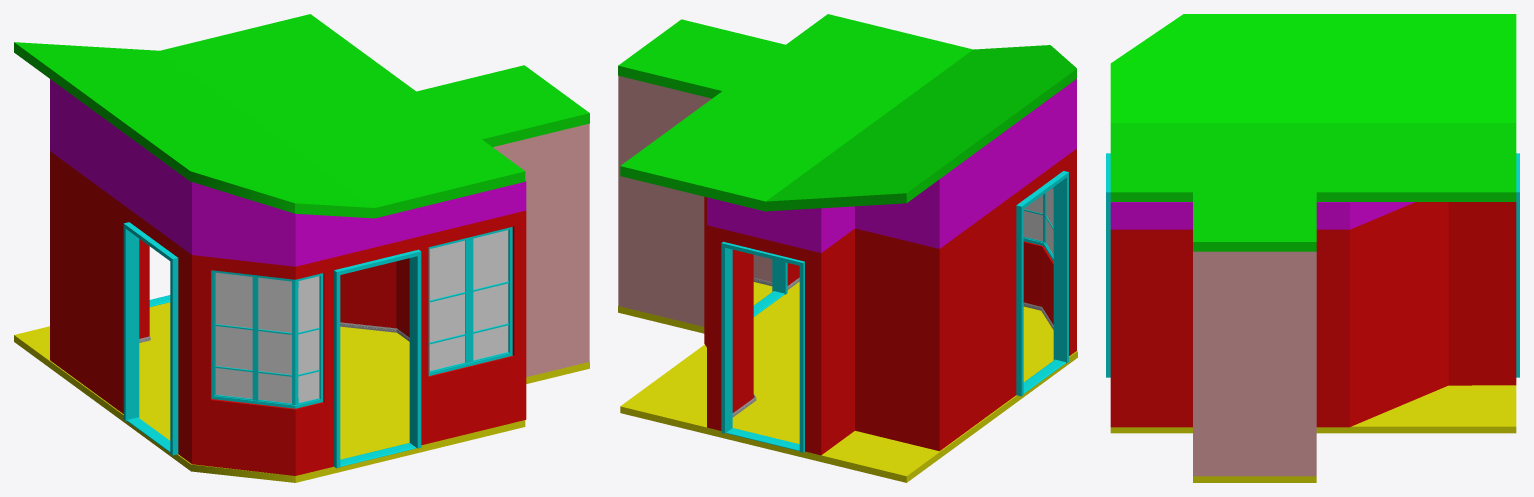
Rendered from FloorPlan527_physics.fbx.
3 renders of one model, left to right at view 1: azimuth 30°, elevation 25°; view 2: azimuth 150°, elevation 25°; view 3: azimuth 270°, elevation 25°, orthographic. The views are drawn at different scales.
Visible parts, largest first — view 1: FP527:Walls_1, FP527:Ceiling_1, FP527:Floor_1, FP527:Walls_2, FP527:WindowPane_2, FP527:WindowPane_1, FP527:Ceiling_2, FP527:DoorFrame_2, FP527:DoorFrame_1, FP527:WindowFrame_2, FP527:WindowFrame_1; view 2: FP527:Walls_1, FP527:Ceiling_1, FP527:Floor_1, FP527:Walls_2, FP527:Ceiling_2, FP527:DoorFrame_2, FP527:DoorFrame_3, FP527:WindowPane_2, FP527:Floor_2, FP527:Floorboard_3, FP527:DoorFrame_4; view 3: FP527:Ceiling_1, FP527:Walls_1, FP527:Walls_2, FP527:Ceiling_2, FP527:Floor_1, FP527:DoorFrame_1, FP527:DoorFrame_3, FP527:Floor_2.
Boxes of the visible parts, x1,y1,x2,y2 form: FP527:Walls_1: (50, 79, 526, 475); FP527:Ceiling_1: (14, 14, 525, 218); FP527:Floor_1: (14, 302, 525, 482); FP527:Walls_2: (493, 123, 589, 376); FP527:WindowPane_2: (215, 272, 319, 403); FP527:WindowPane_1: (430, 230, 508, 370); FP527:Ceiling_2: (416, 65, 589, 147); FP527:DoorFrame_2: (123, 222, 178, 455); FP527:DoorFrame_1: (334, 249, 421, 468); FP527:WindowFrame_2: (211, 270, 323, 408); FP527:WindowFrame_1: (428, 227, 512, 375); FP527:Walls_1: (704, 79, 1076, 455); FP527:Ceiling_1: (620, 14, 1076, 211); FP527:Floor_1: (620, 282, 1077, 482); FP527:Walls_2: (618, 76, 772, 326); FP527:Ceiling_2: (618, 19, 785, 98); FP527:DoorFrame_2: (1016, 171, 1068, 396); FP527:DoorFrame_3: (721, 241, 804, 452); FP527:WindowPane_2: (1023, 188, 1053, 254); FP527:Floor_2: (618, 282, 772, 333); FP527:Floorboard_3: (726, 428, 799, 451); FP527:DoorFrame_4: (772, 259, 787, 294); FP527:Ceiling_1: (1110, 14, 1516, 201); FP527:Walls_1: (1110, 202, 1516, 427); FP527:Walls_2: (1193, 251, 1316, 476); FP527:Ceiling_2: (1193, 192, 1316, 251); FP527:Floor_1: (1110, 385, 1516, 433); FP527:DoorFrame_1: (1106, 153, 1110, 377); FP527:DoorFrame_3: (1516, 153, 1519, 377); FP527:Floor_2: (1193, 476, 1316, 482).
Bounding box in the file's own units: 449 × 315 × 417.
